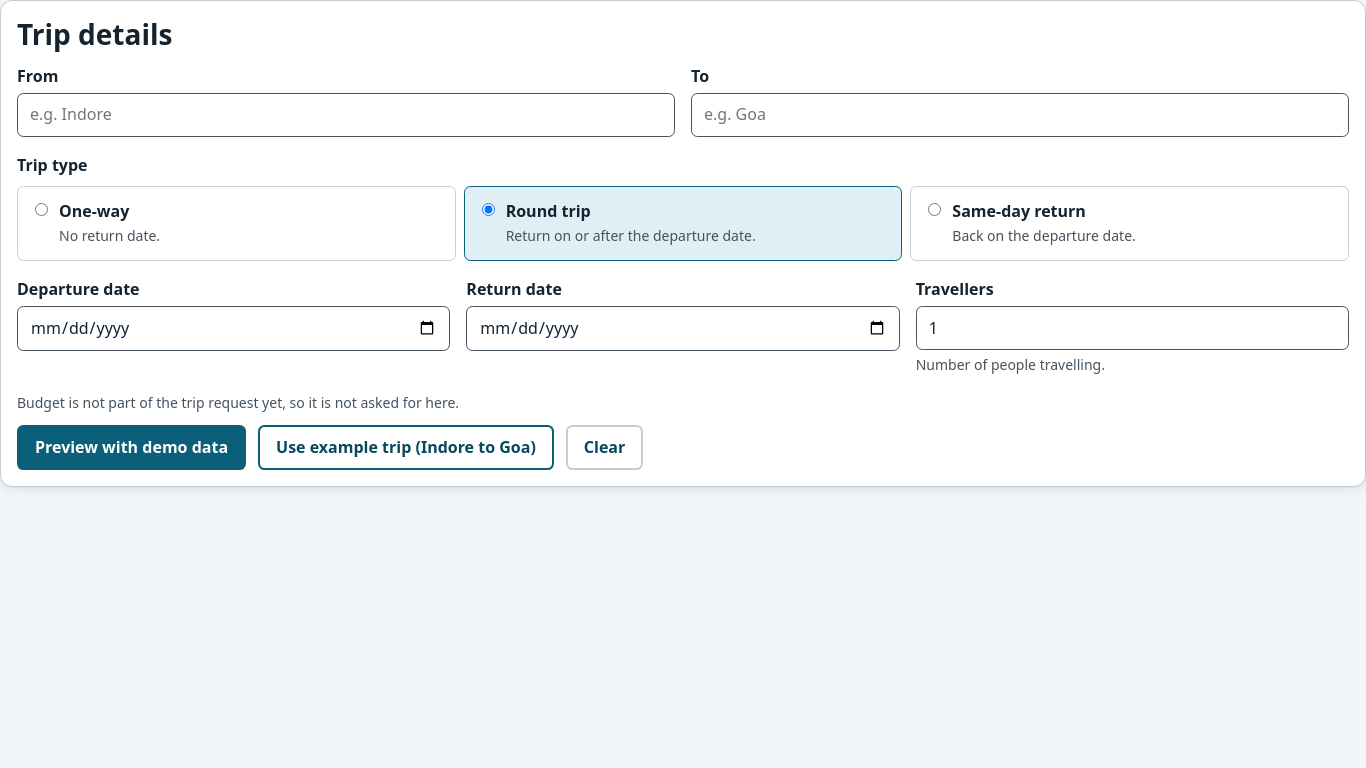
Test: TripForm validation › an empty submit shows errors, does not submit and focuses the first problem
What coordinates should you click on to do the following:
click the button "Preview with demo data"
I would click on:
 (132, 448)
Its box is left=17, top=425, right=246, bottom=470.
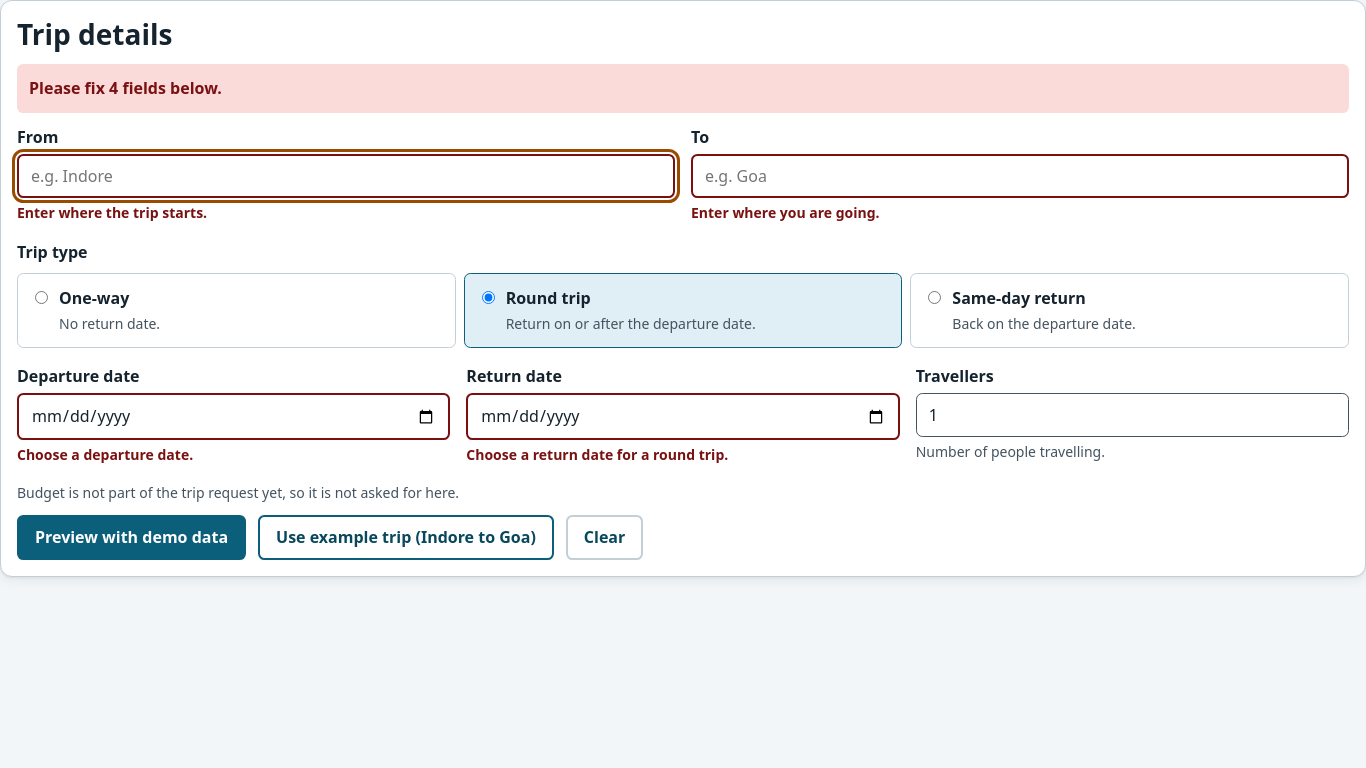
Result: the message shows "fix 4 fields" at left=17, top=64, right=1349, bottom=113
